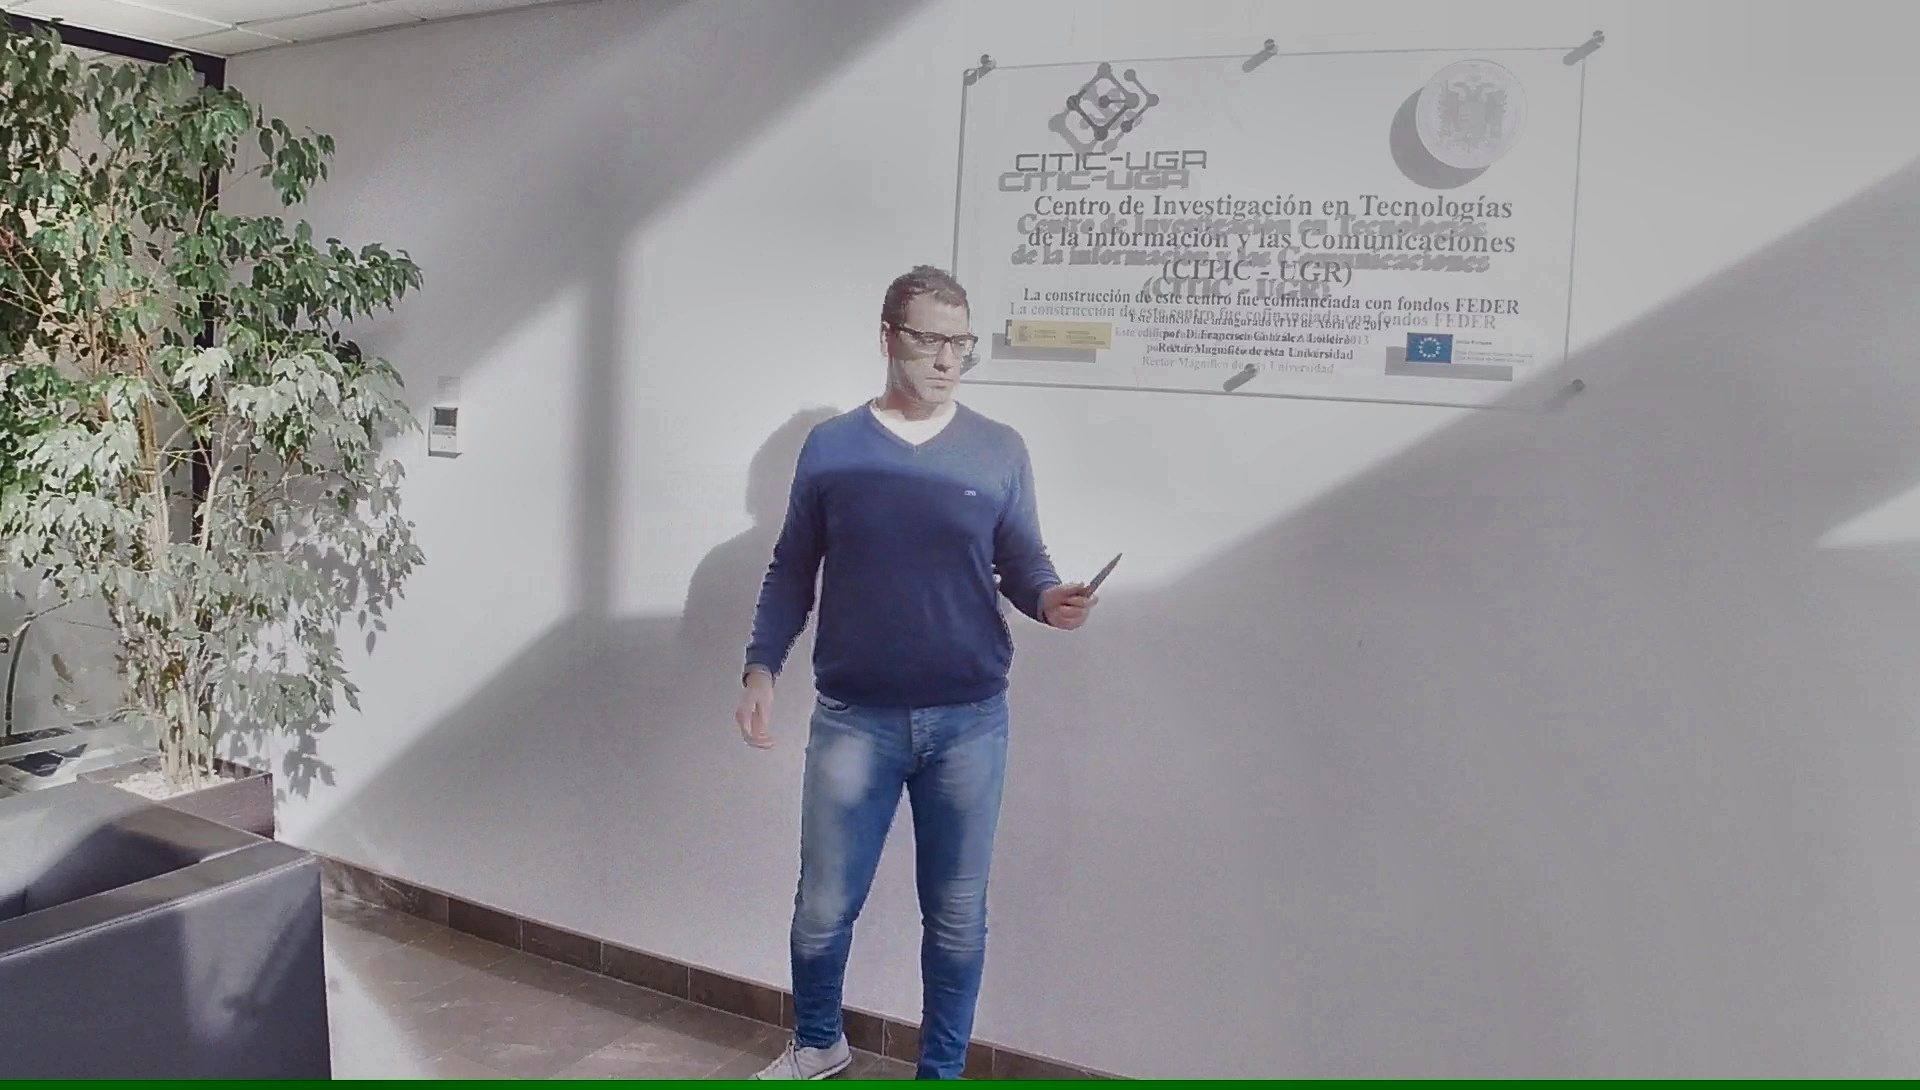knife: (1059, 543, 1130, 617)
